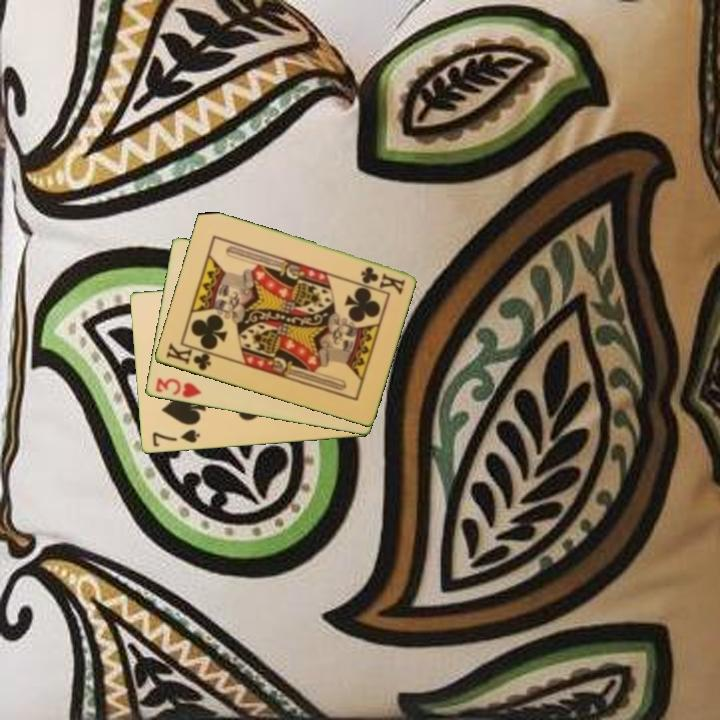3h: (152, 374, 204, 401)
7s: (148, 426, 202, 450)
Kc: (162, 340, 219, 374), (357, 263, 408, 295)
